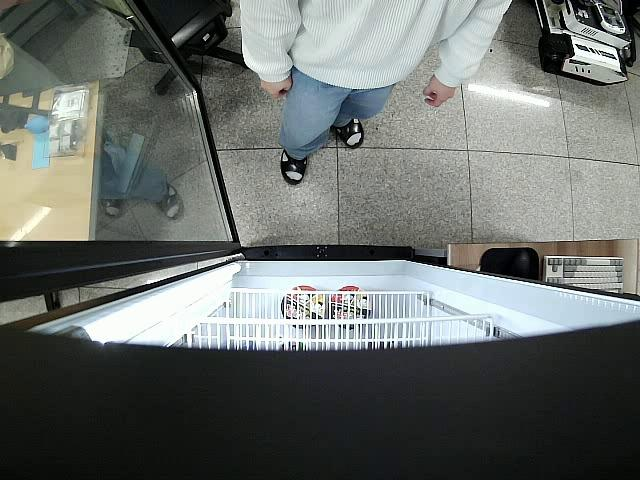00_hand: (259, 71, 294, 102), (423, 75, 456, 107)
